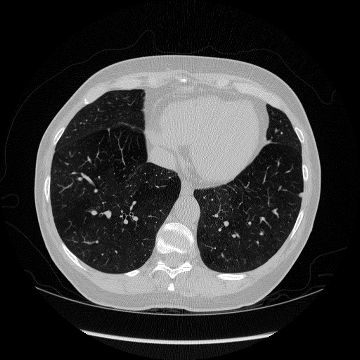nodule: (298, 193, 302, 197)
